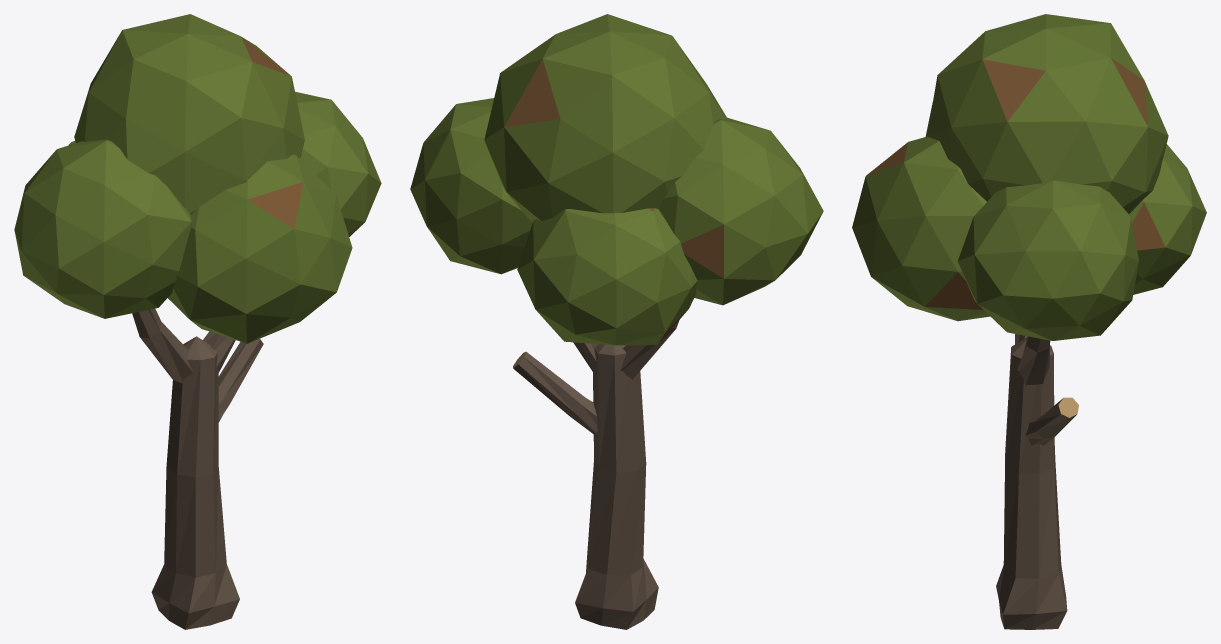
File: round-tree.glb
The picture shows the model from 3 angles, left to right: view 1: azimuth 30°, elevation 25°; view 2: azimuth 150°, elevation 25°; view 3: azimuth 270°, elevation 25°; orthographic projection. The views are drawn at different scales.
Parts seen in each view (by area): view 1: crown-foliage, trunk; view 2: crown-foliage, trunk; view 3: crown-foliage, trunk.
Part boxes in pixels (x1=…): crown-foliage: x1=14, y1=14, x2=381, y2=343; trunk: x1=132, y1=308, x2=263, y2=629; crown-foliage: x1=410, y1=14, x2=823, y2=345; trunk: x1=513, y1=320, x2=679, y2=629; crown-foliage: x1=852, y1=14, x2=1206, y2=340; trunk: x1=996, y1=334, x2=1078, y2=629.
Size of the model in its own units: 6.03 by 9.23 by 5.04.
